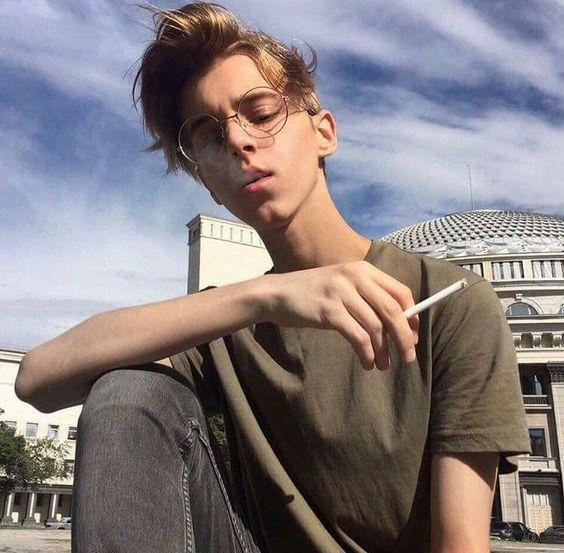cigarette: (404, 278, 468, 319)
